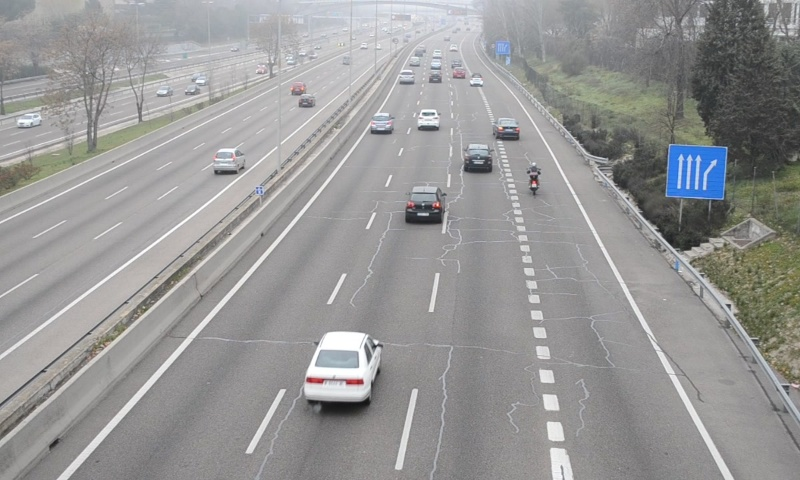car: (302, 332, 382, 401), (406, 186, 445, 223), (462, 144, 493, 170), (494, 117, 520, 141), (369, 112, 394, 135), (416, 108, 441, 130), (398, 67, 412, 84)
motorcycle: (526, 162, 542, 198)
